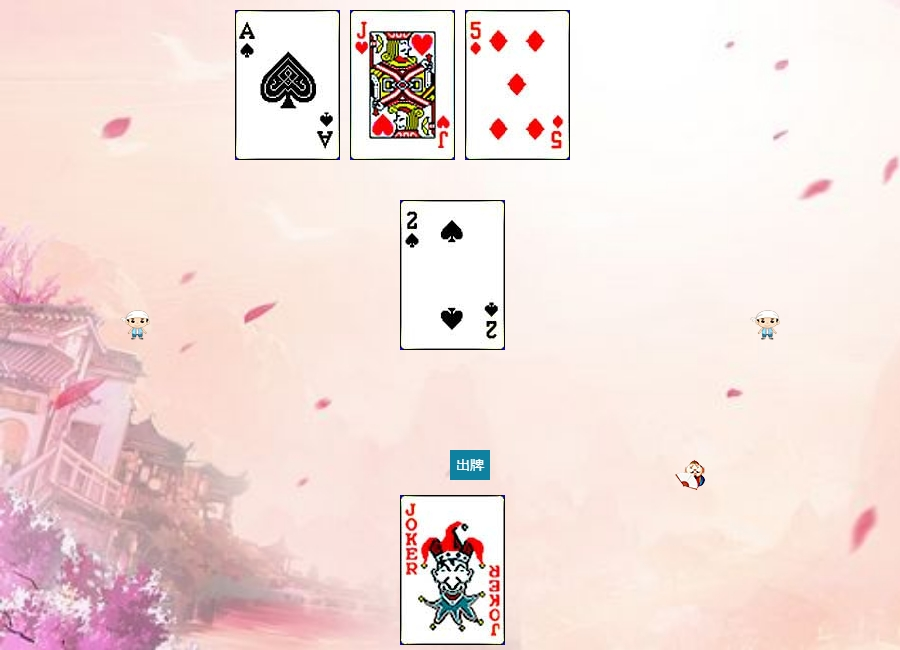11~3: (350, 10, 455, 160)
14~4: (235, 10, 340, 160)
15~4: (400, 200, 505, 350)
18~4: (400, 495, 505, 645)
5~1: (465, 10, 570, 160)
